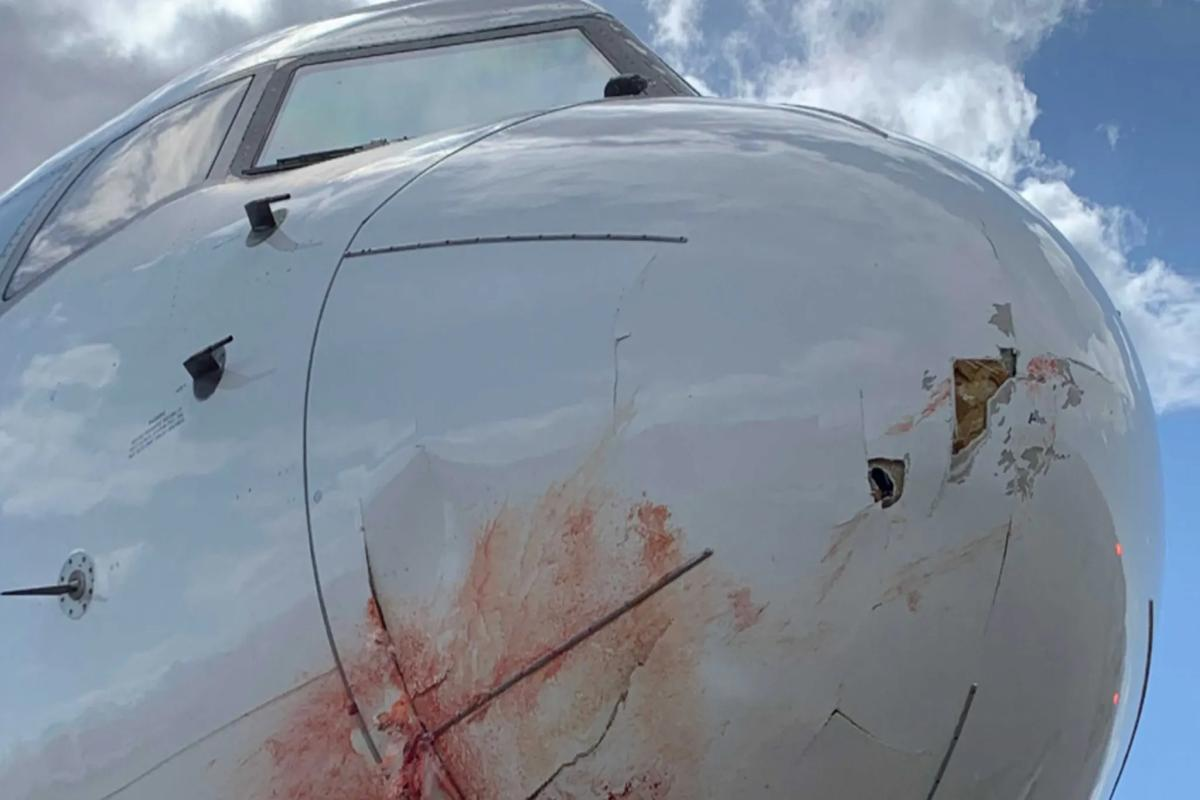Fuselage_damage: (258, 483, 722, 799), (790, 678, 988, 799), (369, 441, 512, 600), (608, 258, 689, 435), (998, 354, 1093, 501), (947, 338, 1021, 474), (989, 505, 1024, 630)
